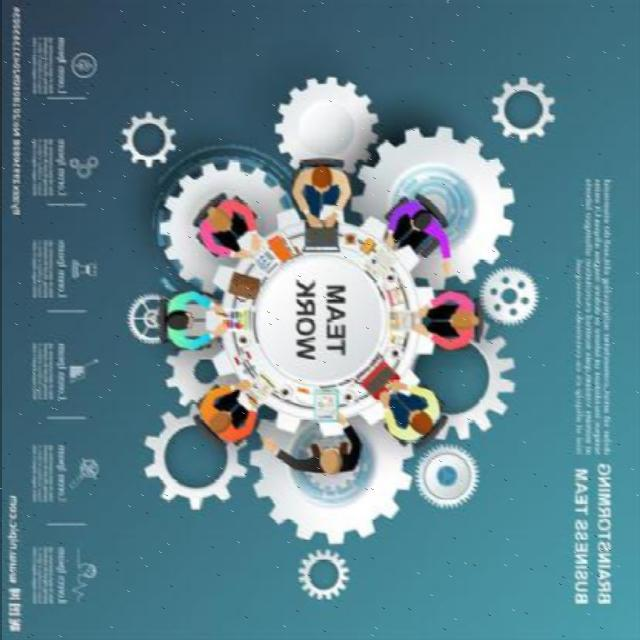Gear: (348, 122, 516, 292), (248, 412, 414, 546), (157, 157, 283, 295), (142, 402, 249, 510), (272, 74, 382, 175), (411, 440, 481, 510), (488, 75, 557, 144), (160, 342, 220, 408), (478, 264, 540, 326), (116, 110, 178, 168), (294, 546, 352, 600), (124, 290, 164, 346)
